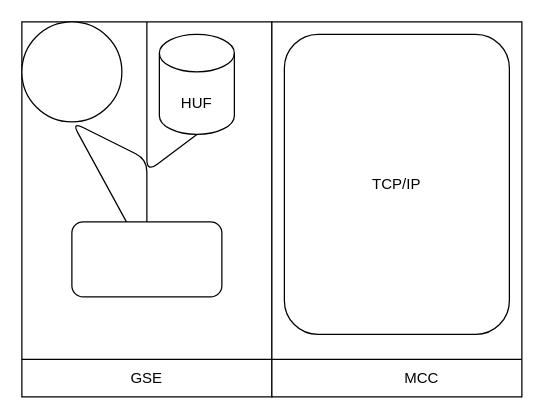
Image size: 545x419. Some labels were removed from this diagram. The box of each missing label's shape, as (x1, y1, x2, y2) in pixels:
HUF BOX: (71, 221, 222, 297)
S-band: (21, 21, 122, 122)
